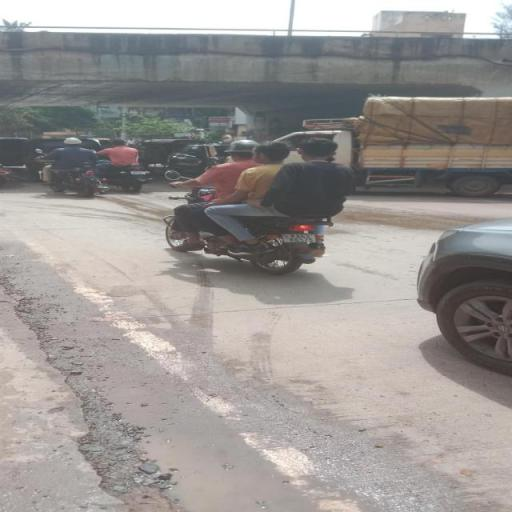tripple riding: (158, 137, 370, 215)
